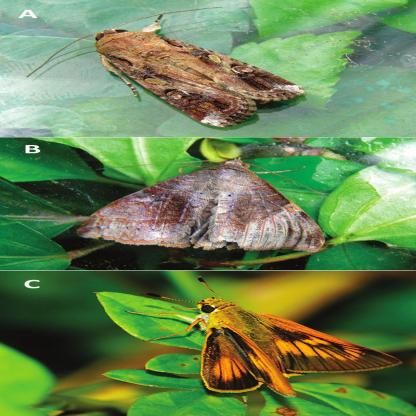armyworm: (151, 288, 408, 406), (63, 17, 328, 129), (54, 159, 340, 250)
